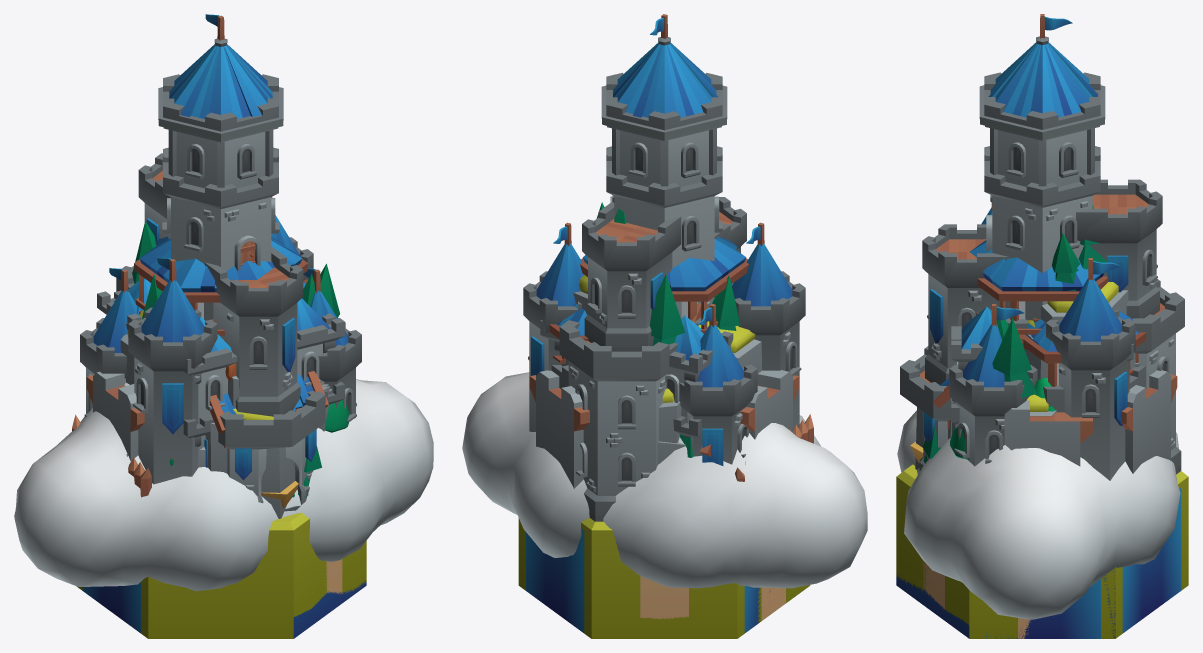
Rendered from city.glb.
3 renders of one model, left to right at view 1: azimuth 30°, elevation 25°; view 2: azimuth 150°, elevation 25°; view 3: azimuth 270°, elevation 25°, orthographic.
Visible parts, largest first — view 1: building_castle_blue, cloud_big, hex_river_B, building_barracks_blue, building_tower_B_top_blue, hex_river_crossing_A, mountain_C_grass, wall_corner_A_inside, mountain_A_grass_trees, building_watermill_blue, wall_straight, hex_coast_A (+2 smaller); view 2: building_castle_blue, cloud_big, hex_river_B, hex_river_crossing_A, wall_corner_A_inside, building_tower_B_top_blue, building_barracks_blue, mountain_A_grass_trees, wall_corner_A_outside, mountain_C_grass, hex_coast_A, hex_coast_C (+4 smaller); view 3: building_castle_blue, cloud_big, hex_river_B, hex_river_crossing_A, building_tower_B_top_blue, mountain_B_grass_trees, wall_straight, wall_corner_A_inside, building_archeryrange_blue, hex_road_E, building_barracks_blue, mountain_A_grass_trees (+3 smaller).
Part boxes in pixels (box(x1,y1,x2,y2)): building_castle_blue: box(80, 14, 361, 511); cloud_big: box(14, 379, 433, 591); hex_river_B: box(148, 513, 327, 638); building_barracks_blue: box(97, 278, 344, 467); building_tower_B_top_blue: box(134, 236, 307, 341); hex_river_crossing_A: box(78, 541, 366, 638); mountain_C_grass: box(120, 310, 300, 518); wall_corner_A_inside: box(93, 371, 144, 461); mountain_A_grass_trees: box(132, 221, 339, 431); building_watermill_blue: box(210, 371, 328, 447); wall_straight: box(86, 377, 138, 431); hex_coast_A: box(304, 587, 359, 630); building_castle_blue: box(523, 14, 805, 521); cloud_big: box(462, 372, 867, 588); hex_river_B: box(518, 518, 638, 638); hex_river_crossing_A: box(582, 518, 770, 638); wall_corner_A_inside: box(529, 375, 799, 488); building_tower_B_top_blue: box(580, 236, 748, 333); building_barracks_blue: box(540, 283, 733, 437); mountain_A_grass_trees: box(650, 274, 740, 465); wall_corner_A_outside: box(536, 370, 792, 488); mountain_C_grass: box(659, 321, 762, 443); hex_coast_A: box(624, 614, 737, 638); hex_coast_C: box(591, 617, 685, 638); building_castle_blue: box(900, 14, 1184, 480); cloud_big: box(897, 410, 1180, 619); hex_river_B: box(896, 464, 1188, 638); hex_river_crossing_A: box(919, 558, 1115, 638); building_tower_B_top_blue: box(970, 240, 1108, 349); mountain_B_grass_trees: box(996, 205, 1135, 416); wall_straight: box(1004, 400, 1092, 466); wall_corner_A_inside: box(1121, 370, 1170, 473); building_archeryrange_blue: box(1023, 311, 1146, 412); hex_road_E: box(898, 476, 1031, 638); building_barracks_blue: box(951, 307, 1133, 424); mountain_A_grass_trees: box(952, 318, 1036, 434).
Bounding box in the file's own units: 3.61 × 4.98 × 2.31.
1 material, 1 textured.
